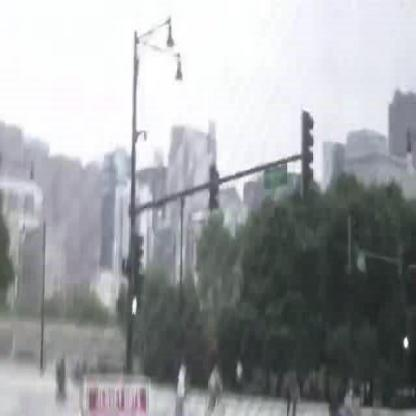other: (85, 386, 148, 408), (396, 325, 410, 359)
